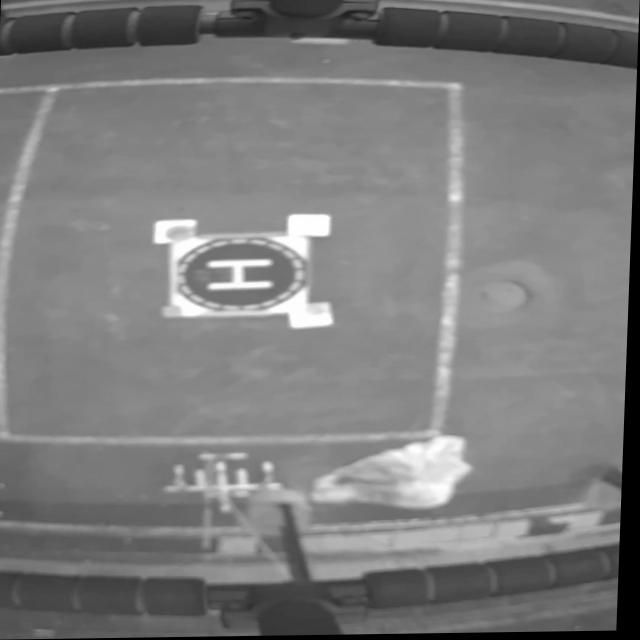Helipad: (207, 260, 274, 291)
